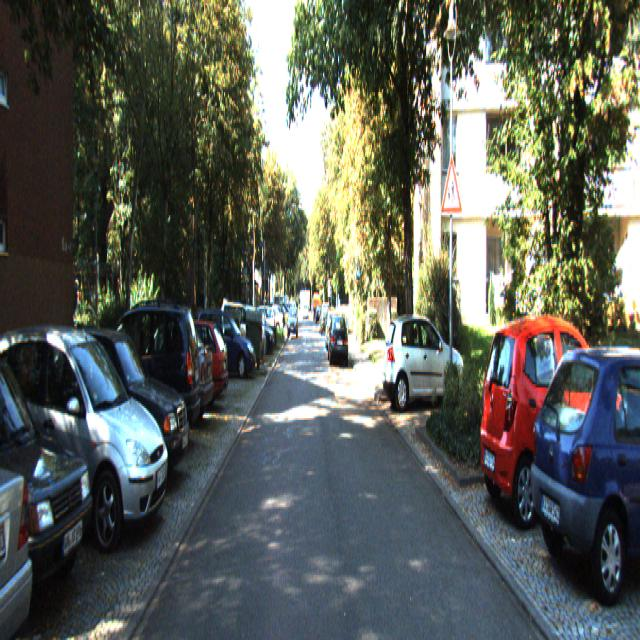Car: (0, 327, 171, 552), (477, 312, 639, 535), (528, 330, 640, 608), (0, 325, 101, 627), (28, 316, 194, 493), (73, 291, 202, 461), (143, 316, 230, 420), (382, 310, 467, 413), (195, 308, 258, 384), (328, 314, 350, 366)
DontCare: (258, 295, 326, 359)
